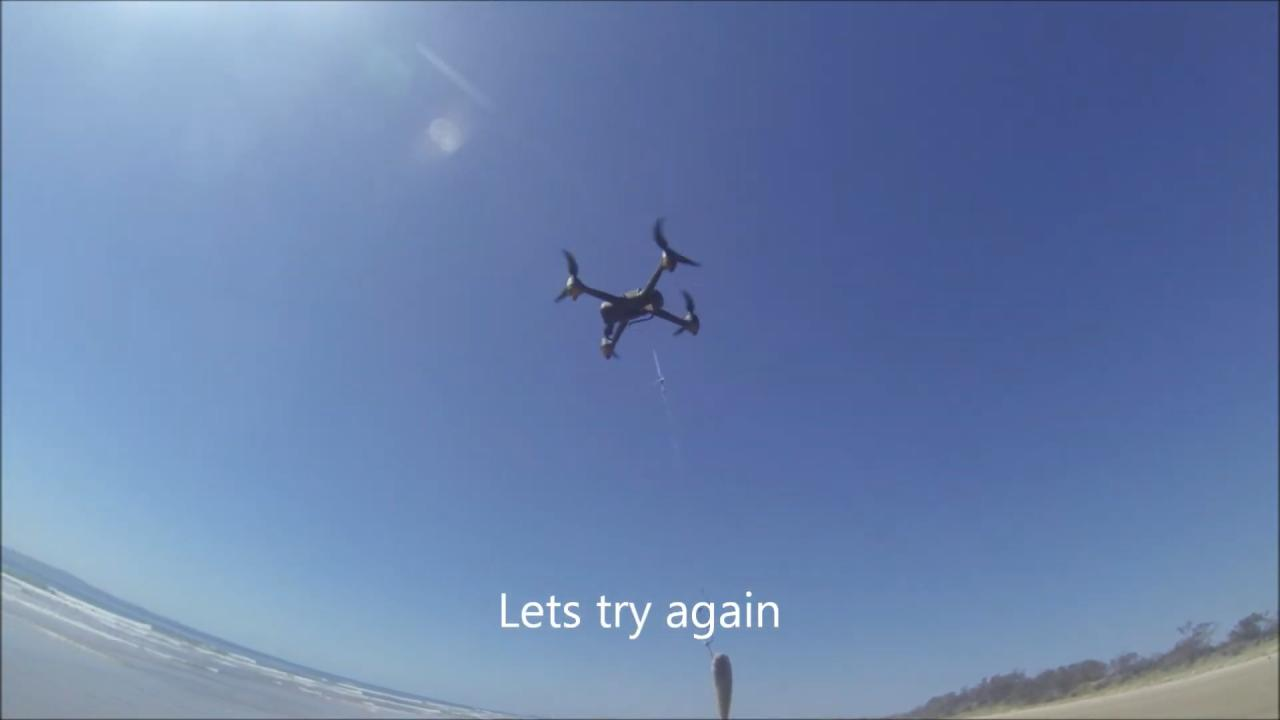Drone: (547, 208, 719, 372)
